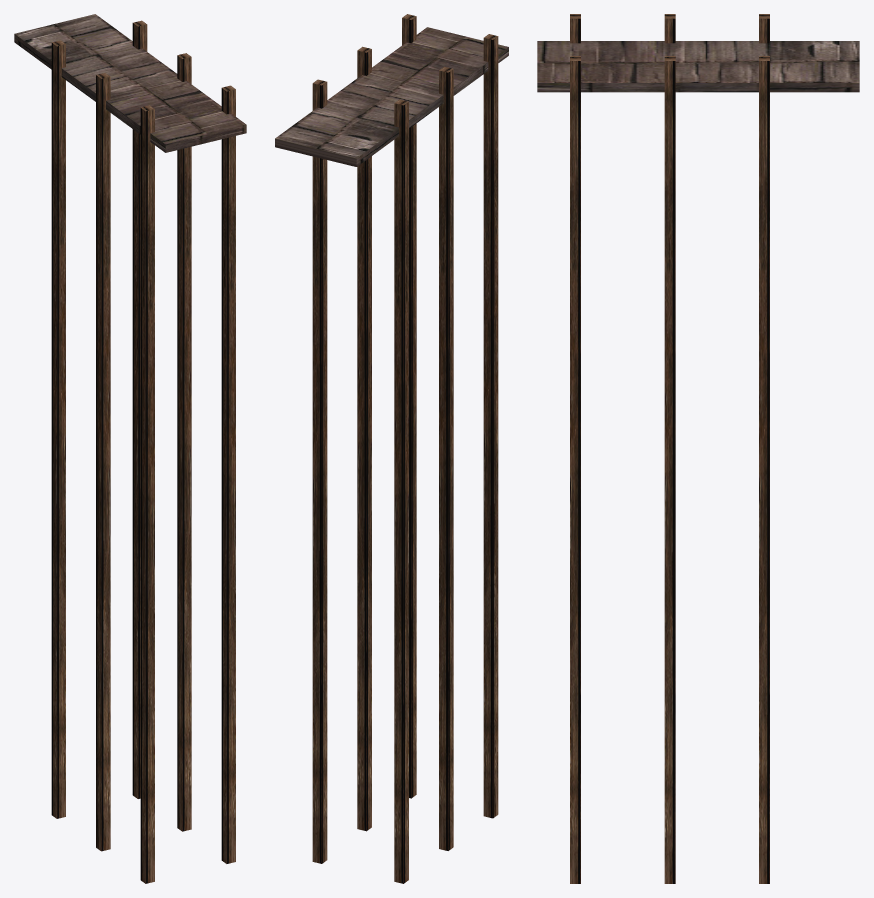
The model's file is lake-docks.fbx.
3 views of the same model, side by side, from view 1: azimuth 30°, elevation 25°; view 2: azimuth 150°, elevation 25°; view 3: azimuth 270°, elevation 25° (orthographic). The views are drawn at different scales.
Visible parts, largest first — view 1: Plane.010; view 2: Plane.010; view 3: Plane.010.
Boxes of the visible parts, x1,y1,x2,y2 form: Plane.010: (14, 14, 246, 883); Plane.010: (275, 14, 508, 883); Plane.010: (537, 14, 859, 883).
Size of the model in its own units: 585 by 4786 by 1697.
1 material, 1 textured.
